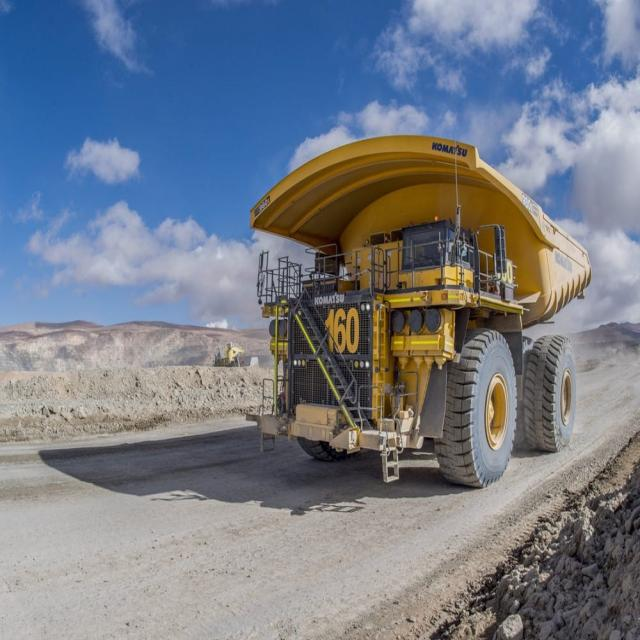dump_truck: (207, 104, 598, 488)
